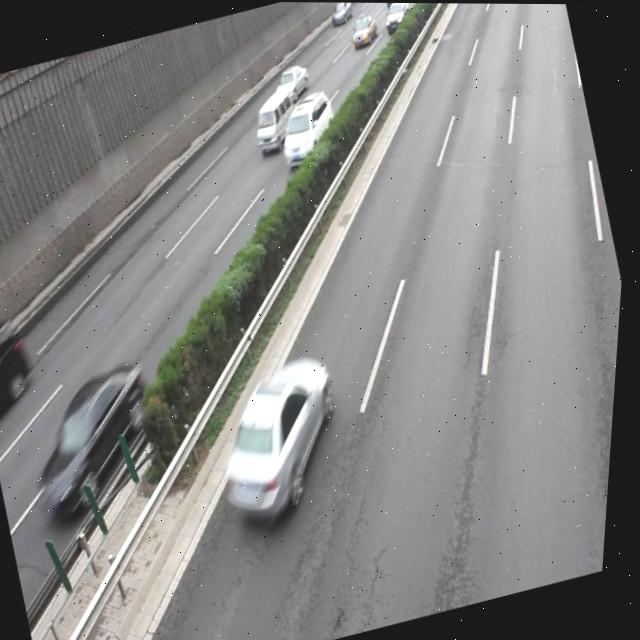car: (15, 352, 181, 526), (204, 347, 363, 520), (267, 60, 314, 106)
truck: (271, 87, 346, 166), (0, 313, 51, 423), (248, 87, 304, 156)
